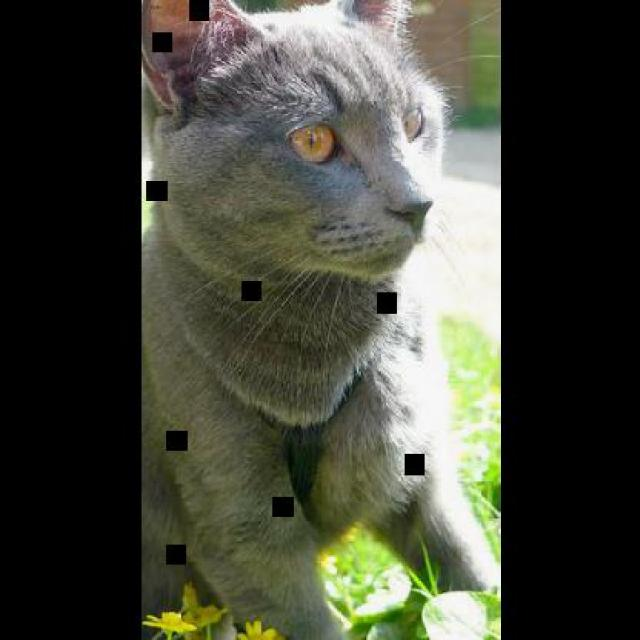unauthorized: (139, 0, 498, 638)
